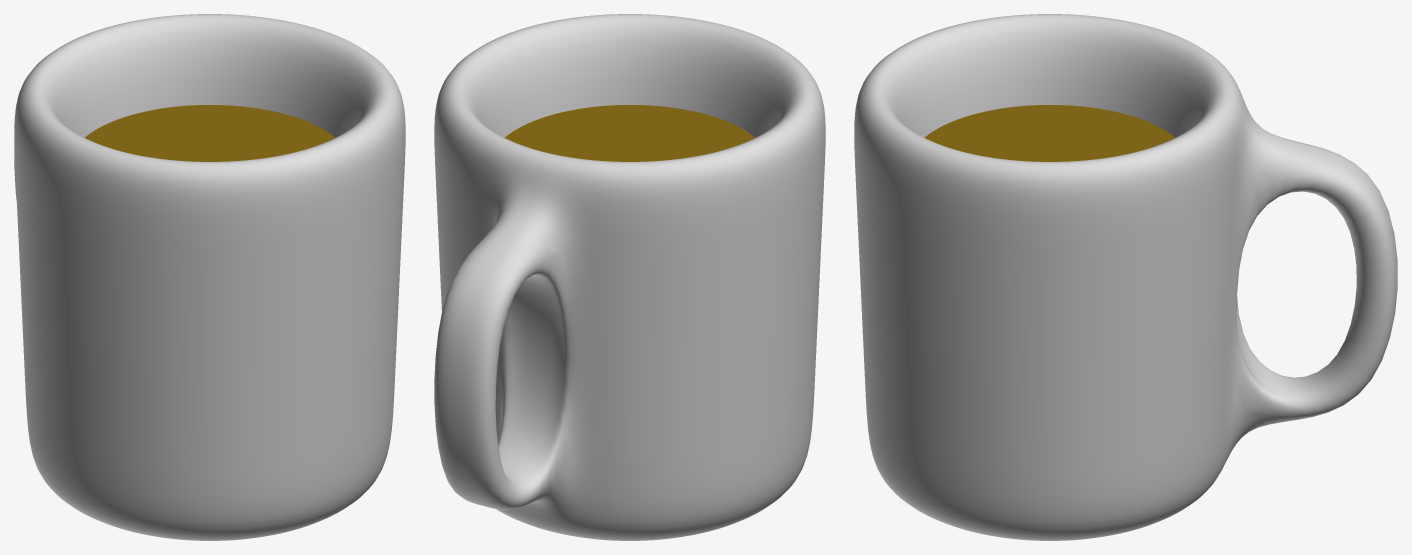
File: cupWithCoffee.fbx
3 views of the same model, side by side, from view 1: azimuth 30°, elevation 25°; view 2: azimuth 150°, elevation 25°; view 3: azimuth 270°, elevation 25° (orthographic).
Visible parts, largest first — view 1: Circle.001, Circle.002; view 2: Circle.001, Circle.002; view 3: Circle.001, Circle.002.
Boxes of the visible parts, x1,y1,x2,y2 form: Circle.001: [14, 14, 405, 540]; Circle.002: [84, 105, 335, 161]; Circle.001: [434, 14, 825, 540]; Circle.002: [504, 105, 755, 161]; Circle.001: [854, 14, 1397, 540]; Circle.002: [924, 105, 1174, 161].
Bounding box in the file's own units: 4.88 × 5.56 × 6.77.
